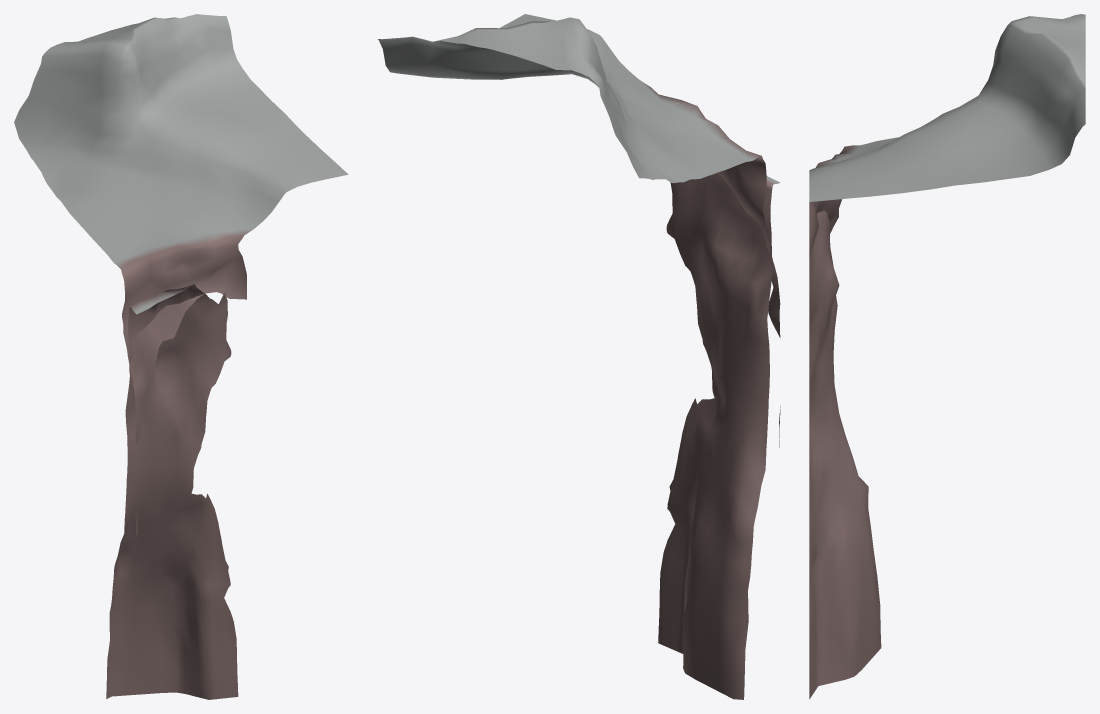
3 views of the same model, side by side, from view 1: azimuth 30°, elevation 25°; view 2: azimuth 150°, elevation 25°; view 3: azimuth 270°, elevation 25° (orthographic). The views are drawn at different scales.
Visible parts, largest first — view 1: G:\FFXIV-MapTools\exports\u5f1\bg\ex4\04_uvs_u5\fld\u5f1\bgp (×15); view 2: G:\FFXIV-MapTools\exports\u5f1\bg\ex4\04_uvs_u5\fld\u5f1\bgp (×9); view 3: G:\FFXIV-MapTools\exports\u5f1\bg\ex4\04_uvs_u5\fld\u5f1\bgp (×7).
Part boxes in pixels (bbox=[...]): G:\FFXIV-MapTools\exports\u5f1\bg\ex4\04_uvs_u5\fld\u5f1\bgp (×15): bbox=[14, 14, 348, 699]; G:\FFXIV-MapTools\exports\u5f1\bg\ex4\04_uvs_u5\fld\u5f1\bgp (×9): bbox=[379, 17, 780, 699]; G:\FFXIV-MapTools\exports\u5f1\bg\ex4\04_uvs_u5\fld\u5f1\bgp (×7): bbox=[809, 14, 1085, 699].
Bounding box in the file's own units: 128 × 341 × 128.
